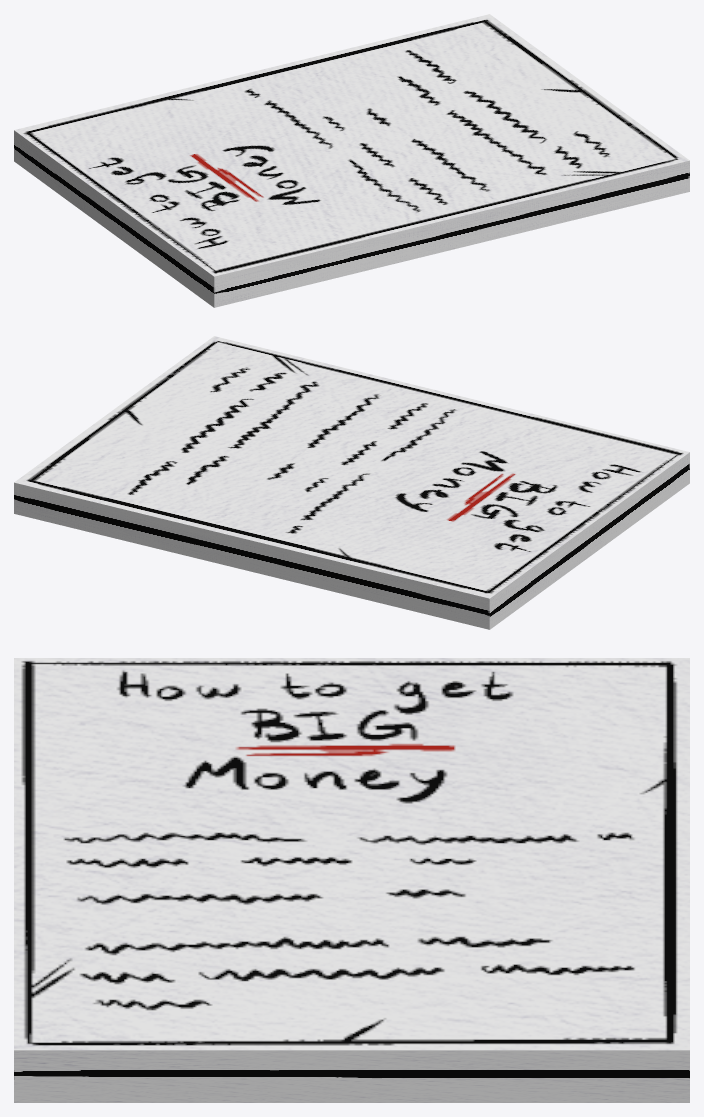
Rendered from Misc_Paper.glb.
3 views of the same model, one above another, from view 1: azimuth 30°, elevation 25°; view 2: azimuth 150°, elevation 25°; view 3: azimuth 270°, elevation 25° (orthographic). The views are drawn at different scales.
Visible parts, largest first — view 1: Cube; view 2: Cube; view 3: Cube.
Boxes of the visible parts, x1=… form: Cube: x1=14, y1=14, x2=689, y2=307; Cube: x1=14, y1=336, x2=689, y2=629; Cube: x1=14, y1=658, x2=689, y2=1102.
Bounding box in the file's own units: 1.09 × 0.0681 × 0.7911.
Materials: 1 (1 with a texture image).
